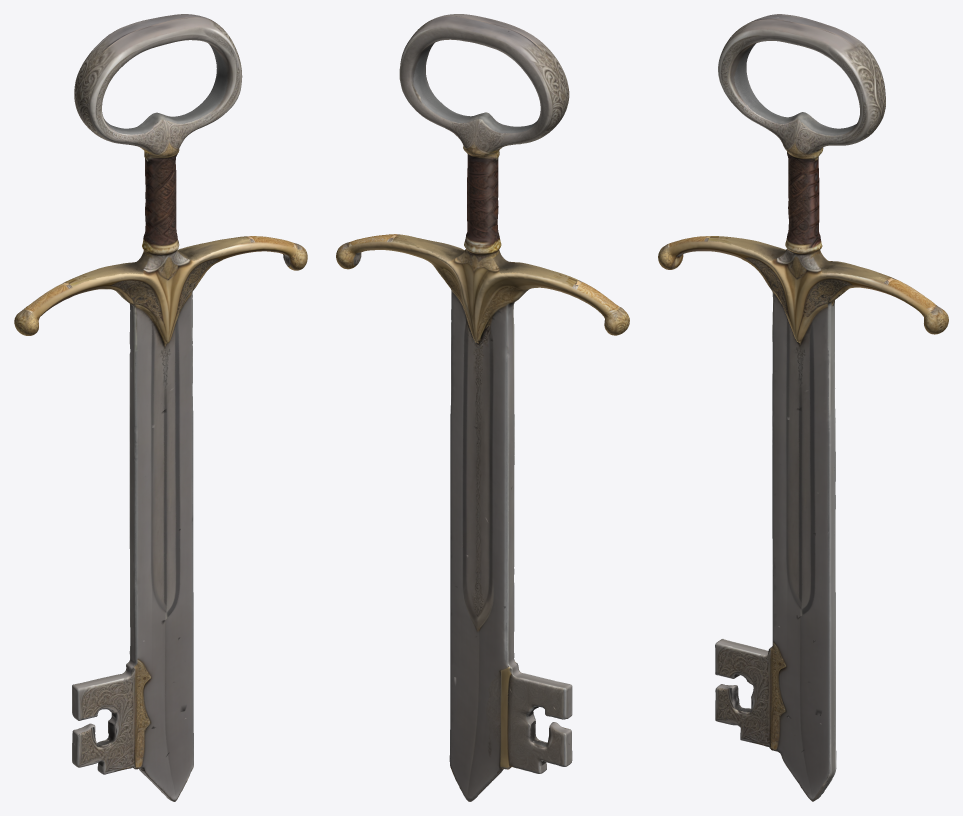
File: sword_key_0901101736_texture.fbx
The picture shows the model from 3 angles, left to right: view 1: azimuth 30°, elevation 25°; view 2: azimuth 150°, elevation 25°; view 3: azimuth 330°, elevation 25°; orthographic projection.
Visible parts, largest first — view 1: input; view 2: input; view 3: input.
Part boxes in pixels (x1,y1,x2,y2): input: (14, 14, 307, 801); input: (336, 14, 629, 801); input: (658, 14, 948, 801).
Size of the model in its own units: 77.34 by 200 by 9.42.
Materials: 1 (1 with a texture image).
